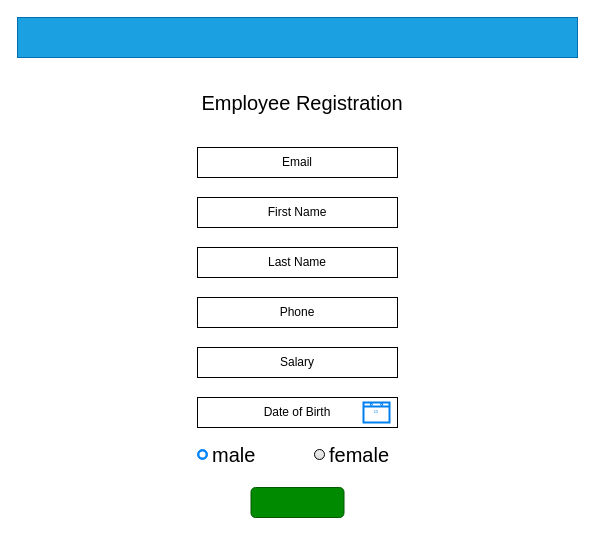
Image size: 595x535. Some labels were removed from this diagram. The centre of each missing label's shape, as x and y in pixels:
"Navigation Bar" belongs at pixel 297 37.
"Register" belongs at pixel 297 502.
